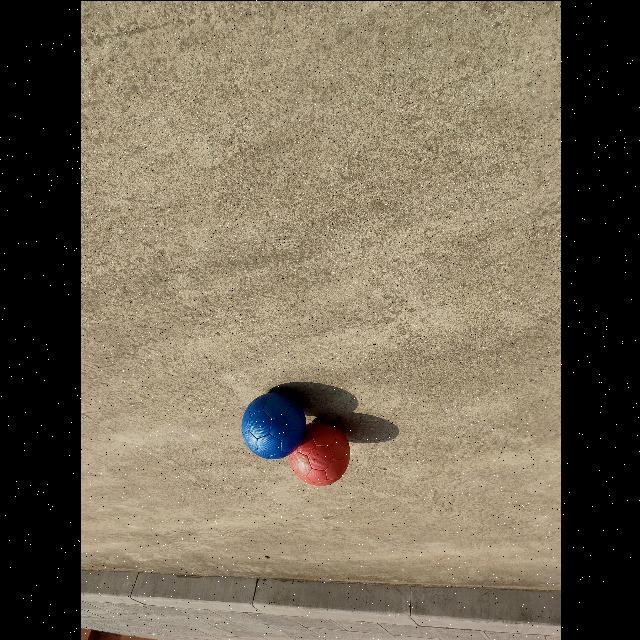B: (241, 391, 305, 458)
R: (287, 421, 349, 485)
